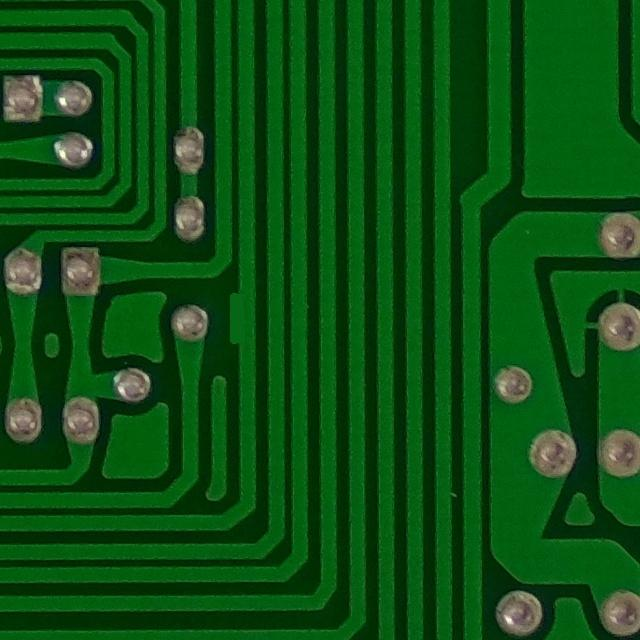spur: (220, 279, 256, 356)
